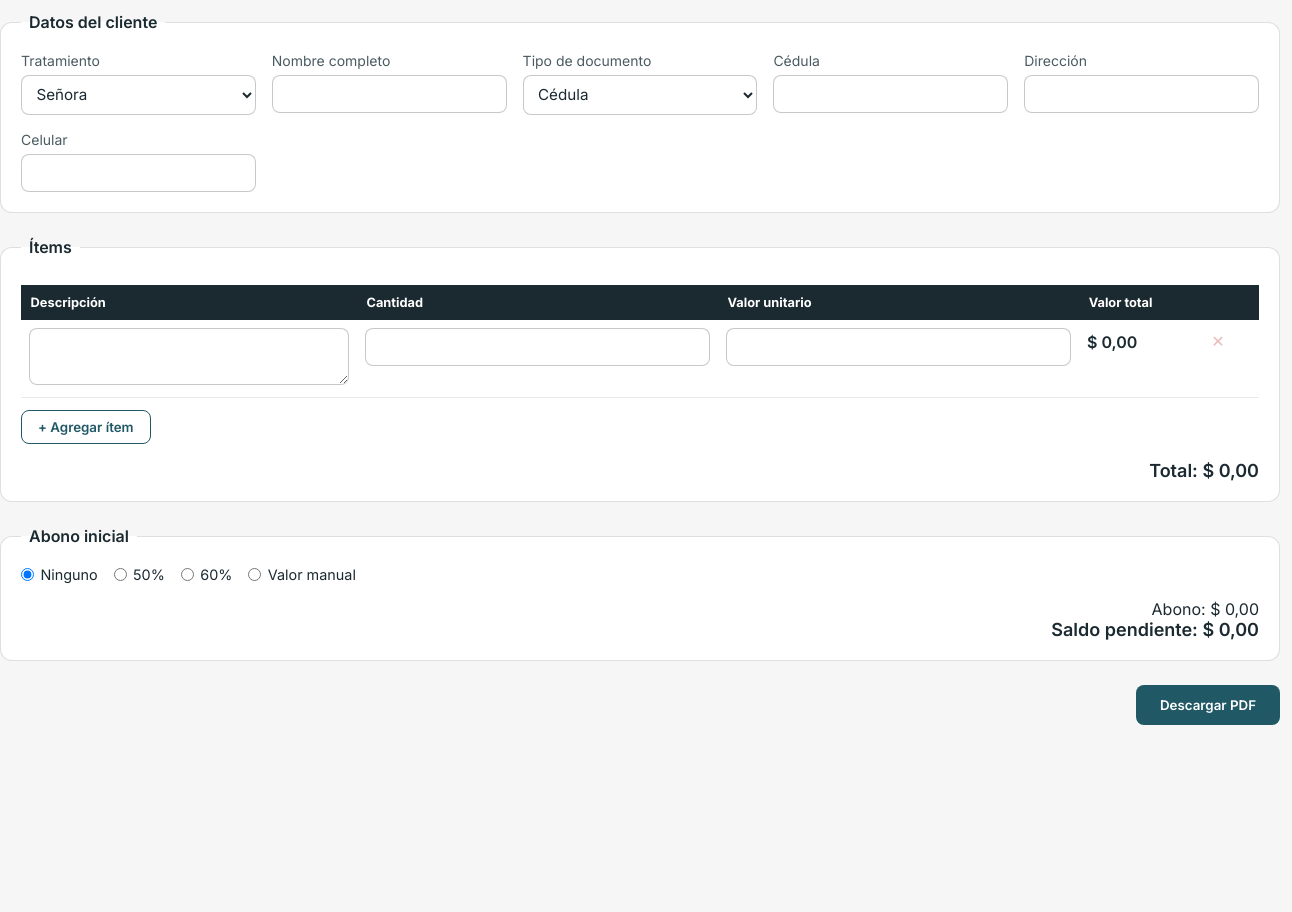
Test case: CuentaCobroForm › calcula el abono del 50% y el saldo pendiente en vivo
The width and height of the screenshot is (1292, 912).
Type "1" into the number field named "Cantidad del ítem 1" at x=537, y=347, box top-left (365, 328), bottom-right (710, 366)
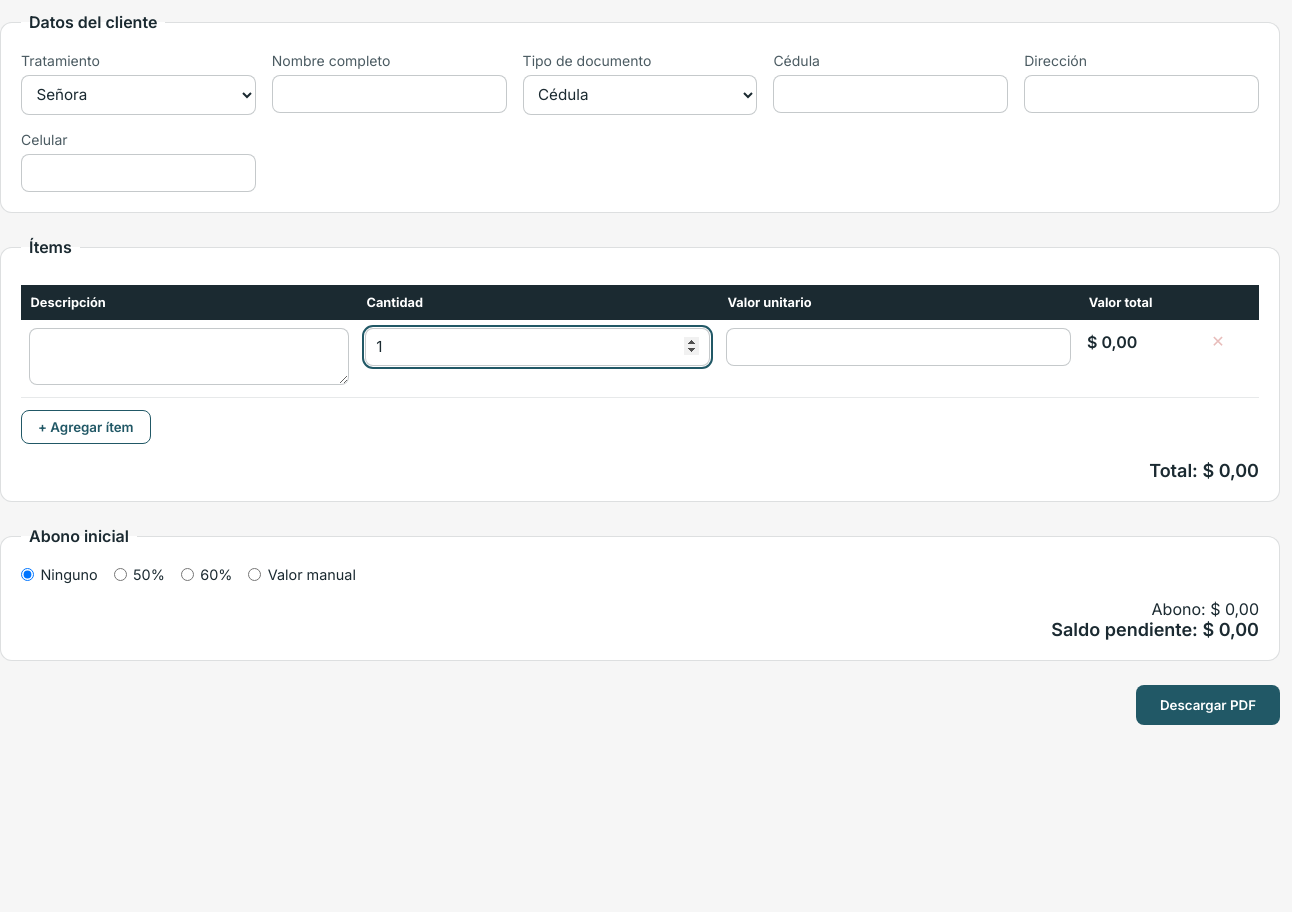
Type "1000" into the number field named "Valor unitario del ítem 1" at x=899, y=347, box top-left (726, 328), bottom-right (1071, 366)
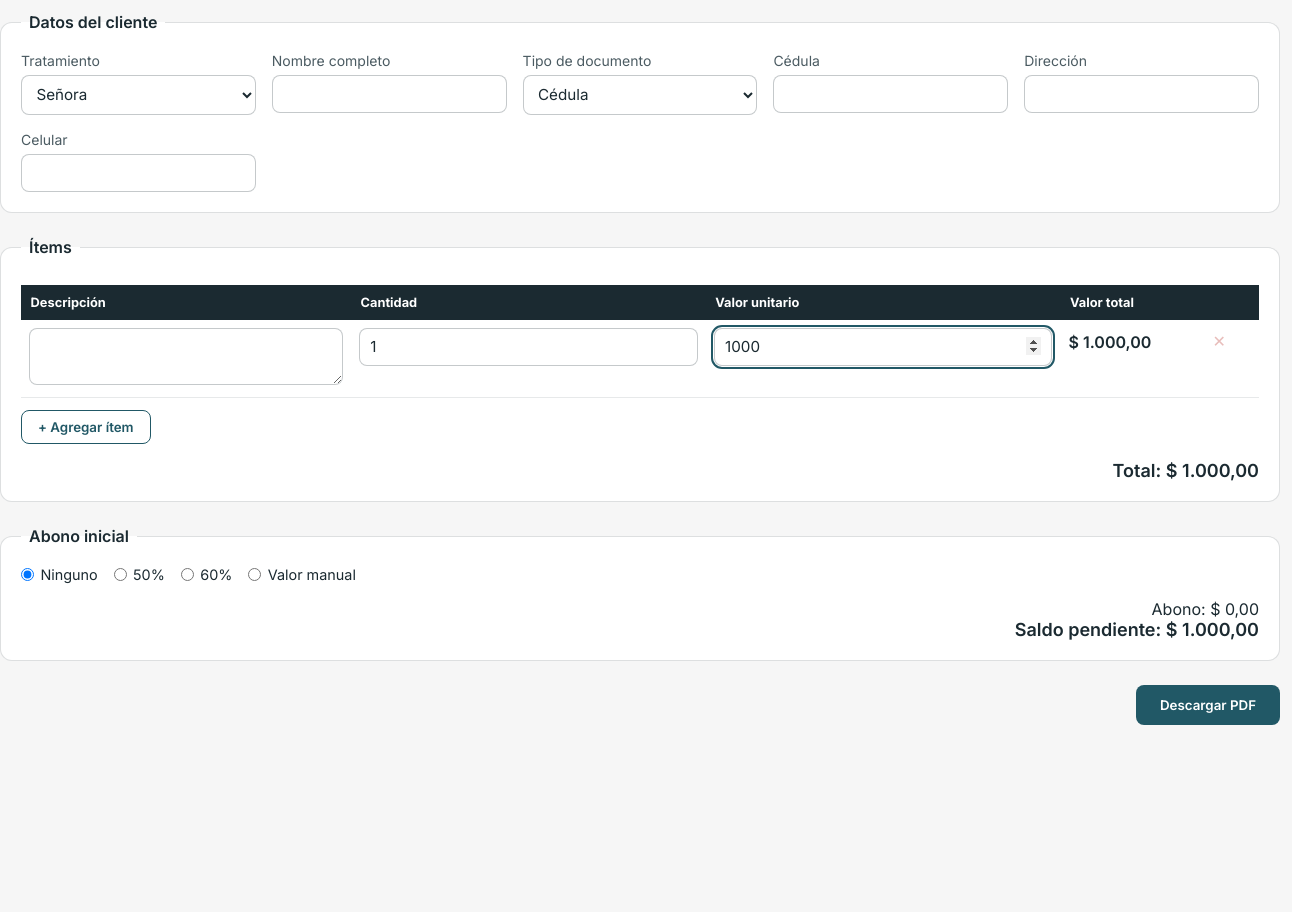
Click the text "50%" at x=139, y=575, box top-left (114, 566), bottom-right (165, 583)
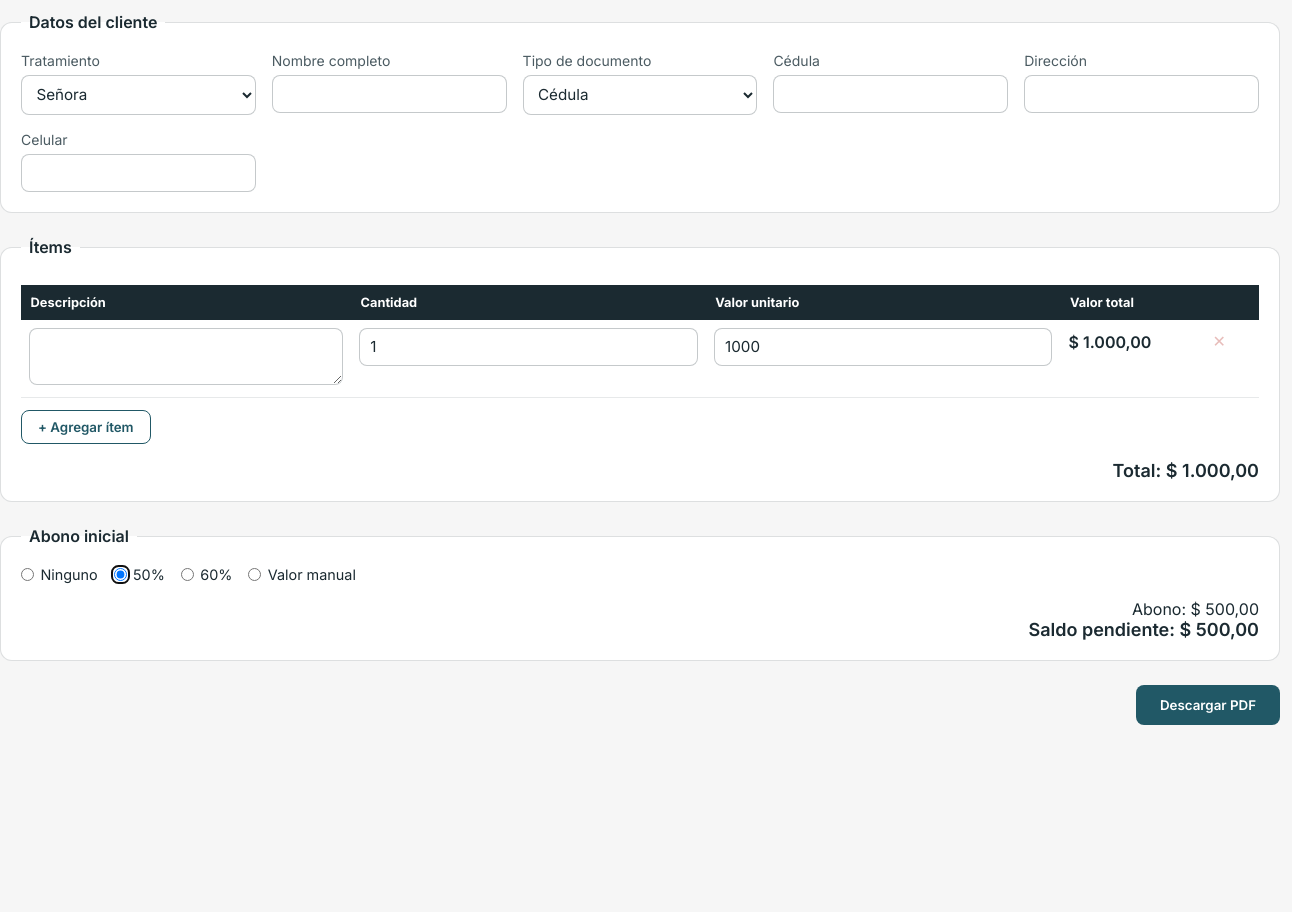
Now the text "Abono: $ 500,00" is shown, box top-left (1132, 599), bottom-right (1259, 619)
Now the text "Saldo pendiente: $ 500,00" is shown, box top-left (1028, 619), bottom-right (1259, 640)
